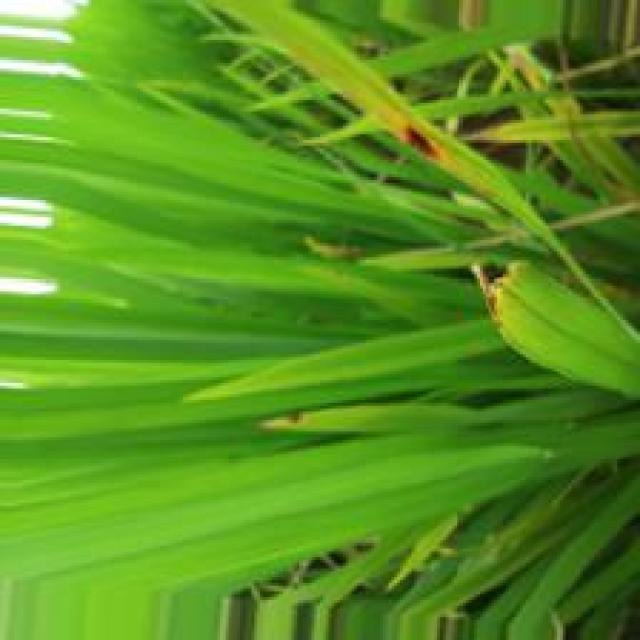Brown_Spot: (400, 120, 443, 164)
